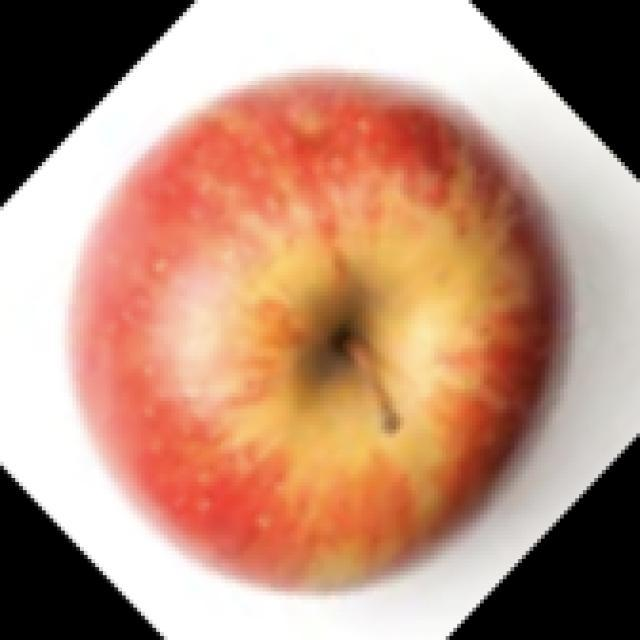Fresh Apple: (63, 70, 575, 595)
